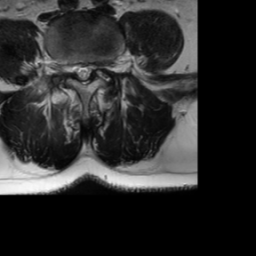CCS_normal: (80, 56, 88, 90)
LFS_severe_stenosis: (96, 57, 104, 79)
LLS_stenosis: (88, 57, 95, 79)
RFS_normal: (65, 56, 73, 79)
RLS_normal: (73, 57, 80, 80)
